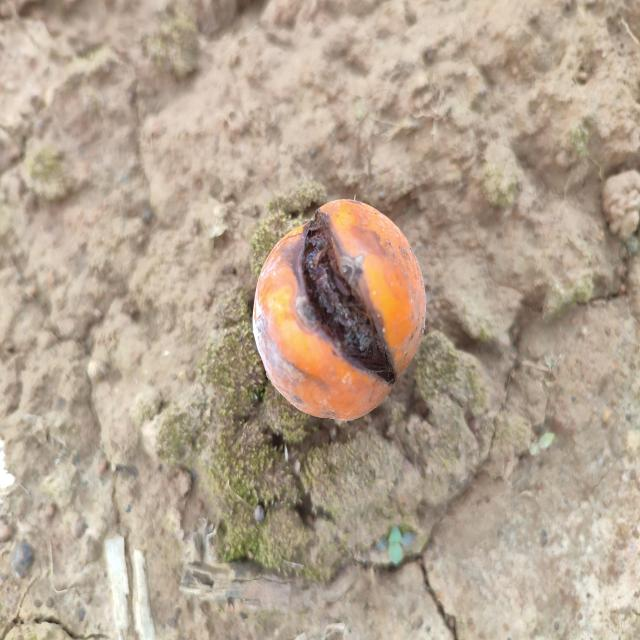damaged: (253, 199, 425, 420)
